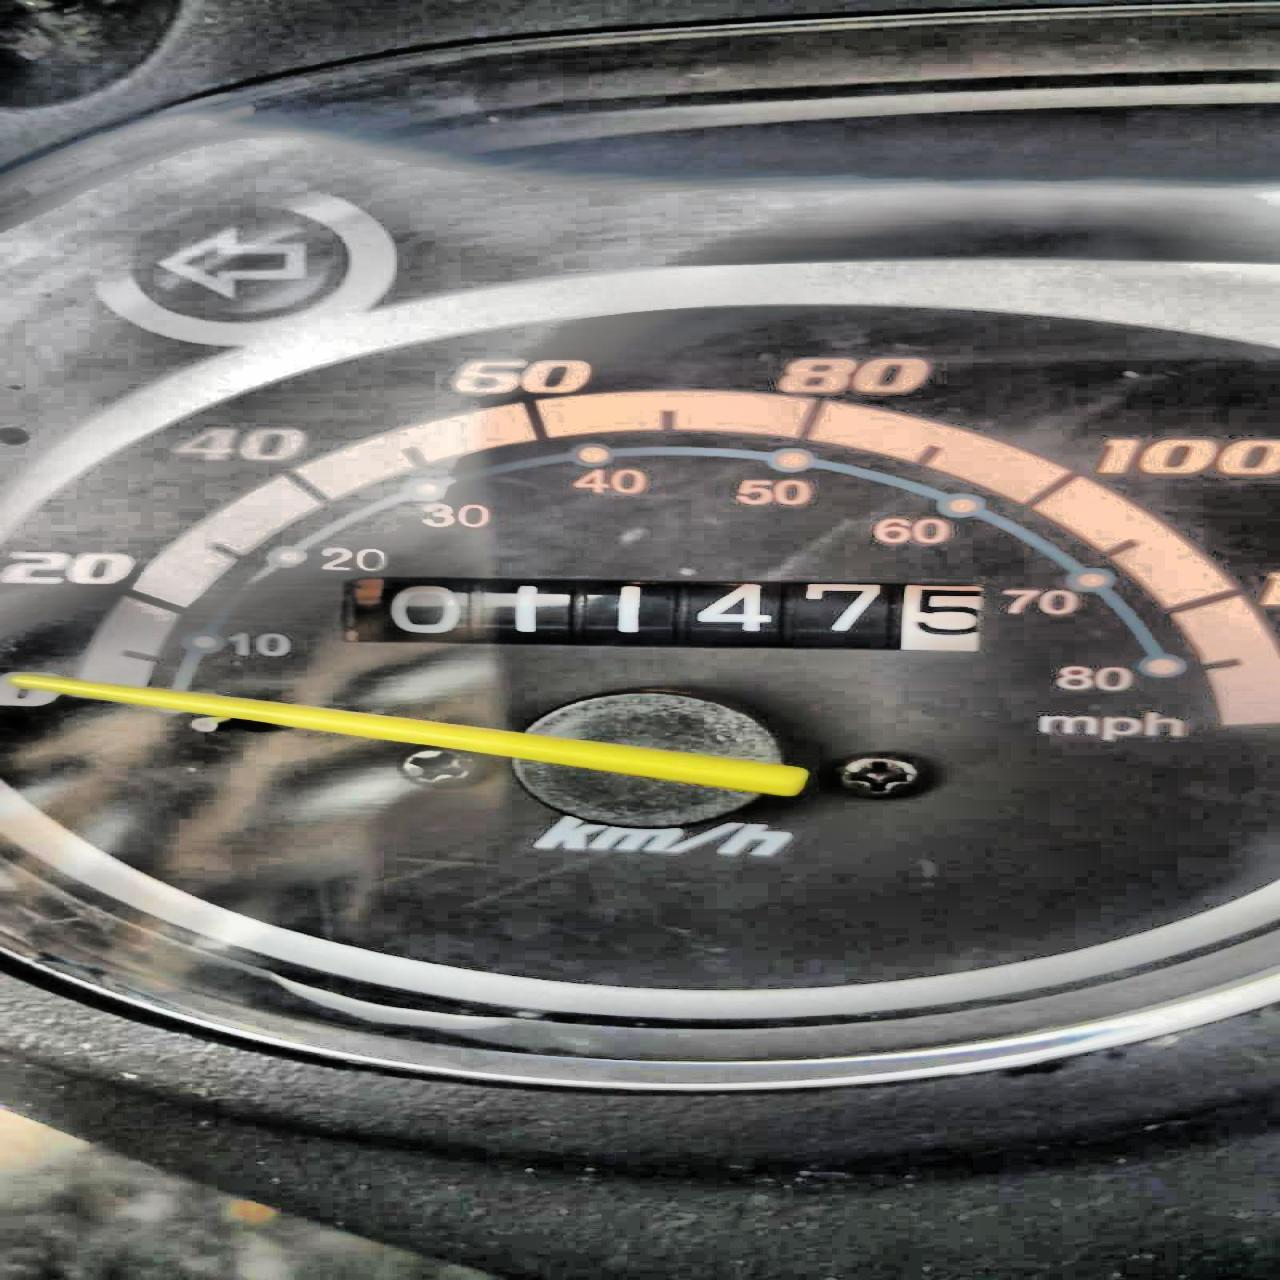0: (386, 580, 464, 639)
1: (604, 584, 654, 634), (504, 583, 546, 633)
4: (683, 581, 772, 636)
5: (912, 584, 987, 641)
7: (798, 579, 886, 634)
odometer: (334, 571, 1005, 659)
